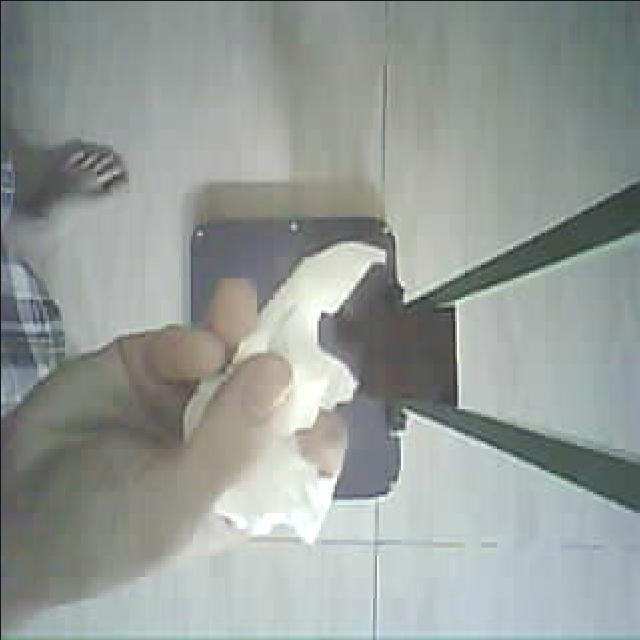Paper: (191, 236, 377, 550)
